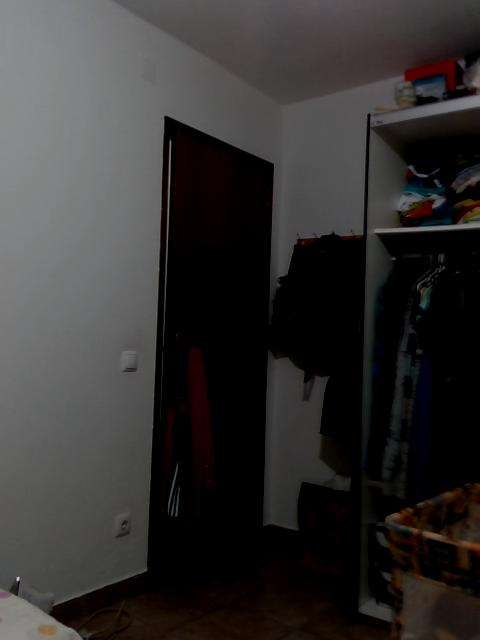closed_door: (145, 114, 272, 594)
